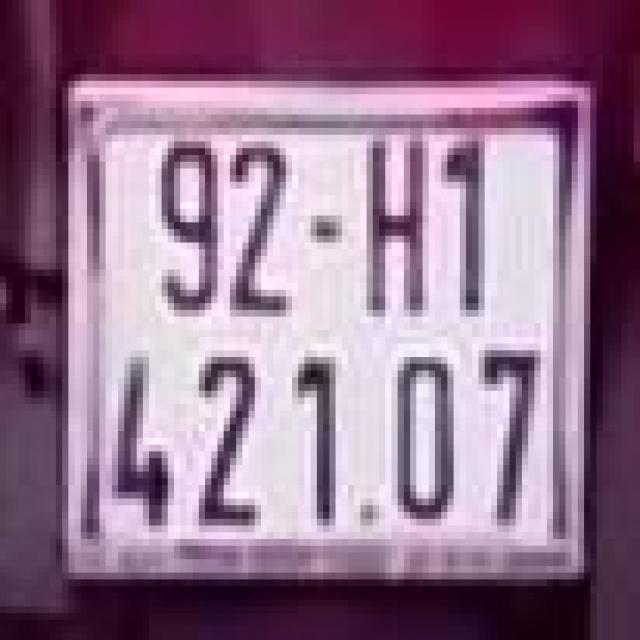0: (376, 344, 469, 526)
1: (289, 333, 363, 529), (432, 125, 494, 320)
2: (193, 340, 261, 542), (224, 135, 292, 323)
4: (112, 334, 174, 536)
7: (475, 337, 550, 532)
9: (155, 131, 230, 327)
H: (357, 124, 438, 333)
